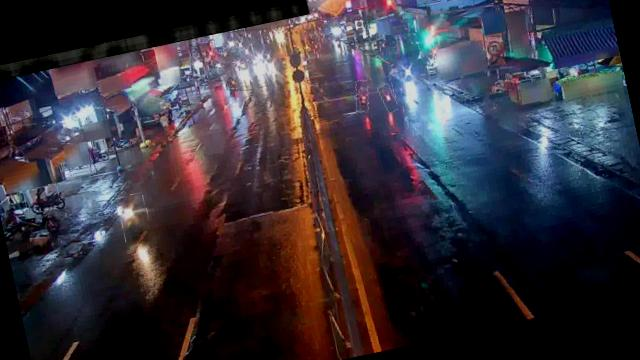Bike: (116, 192, 153, 243), (23, 183, 62, 214), (352, 78, 372, 112), (378, 83, 398, 113), (389, 70, 407, 99), (400, 56, 418, 82)
